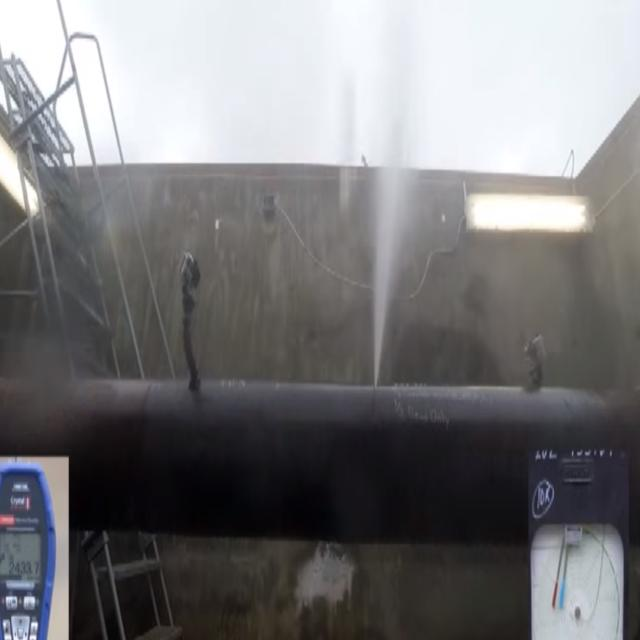leak: (374, 168, 400, 386)
